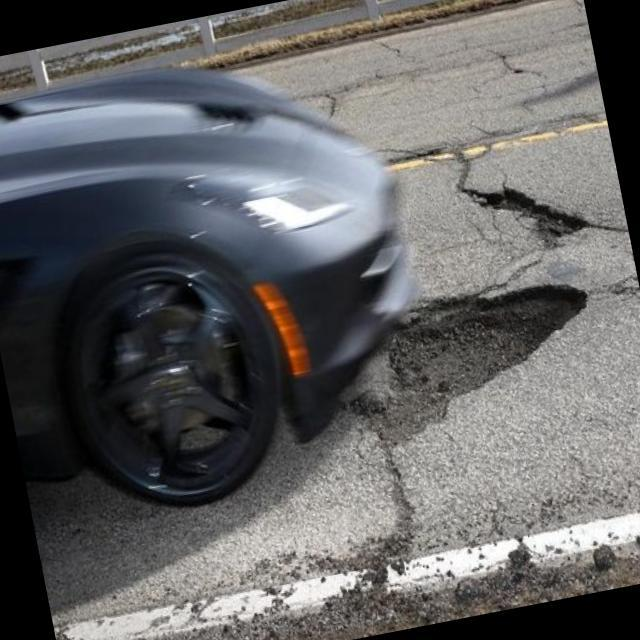Pothole: (388, 262, 605, 404), (472, 162, 586, 258)
